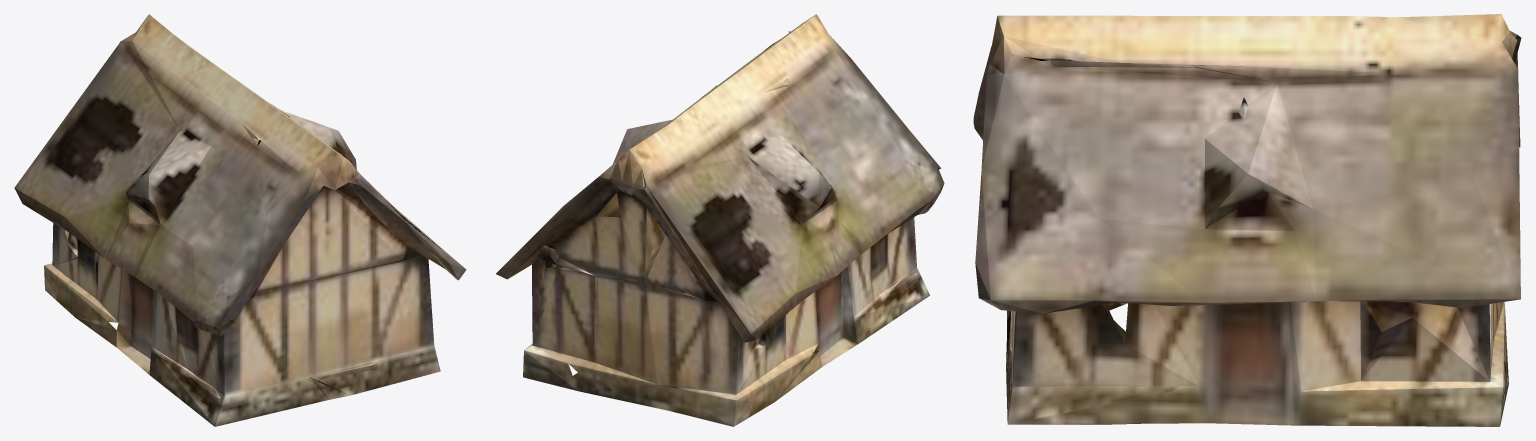
File: ga3_house2_t1_lod2.glb
3 renders of one model, left to right at view 1: azimuth 30°, elevation 25°; view 2: azimuth 150°, elevation 25°; view 3: azimuth 270°, elevation 25°, orthographic. The views are drawn at different scales.
Visible parts, largest first — view 1: ga3_house2_t1_lod2; view 2: ga3_house2_t1_lod2; view 3: ga3_house2_t1_lod2.
Part boxes in pixels (bbox=[...]): ga3_house2_t1_lod2: bbox=[14, 14, 466, 426]; ga3_house2_t1_lod2: bbox=[496, 14, 944, 426]; ga3_house2_t1_lod2: bbox=[973, 14, 1521, 426].
Size of the model in its own units: 5.82 by 5.5 by 7.96.
1 material, 1 textured.
